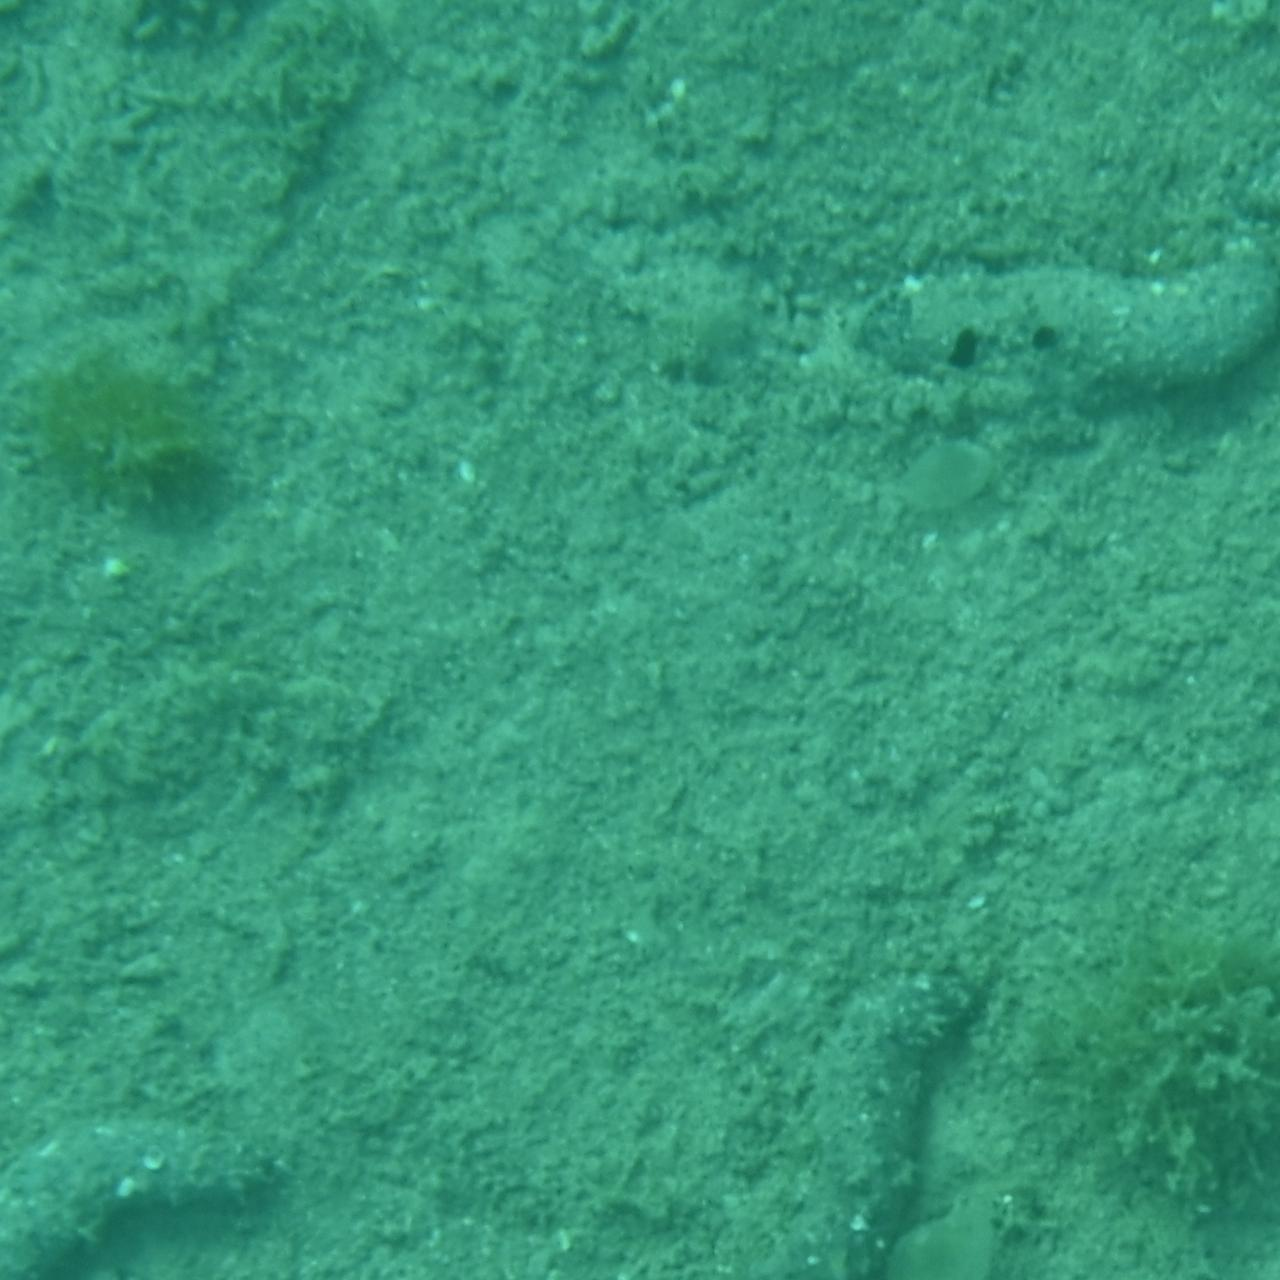Holothuria tubulosa: (586, 944, 1006, 1280), (584, 1063, 990, 1280), (835, 250, 1280, 441), (0, 1043, 300, 1280), (1098, 0, 1280, 238), (0, 0, 109, 302)
Phaeophyceae -cfr Cystoseira-: (574, 0, 1028, 260), (1089, 969, 1280, 1255), (1129, 1123, 1280, 1280)
